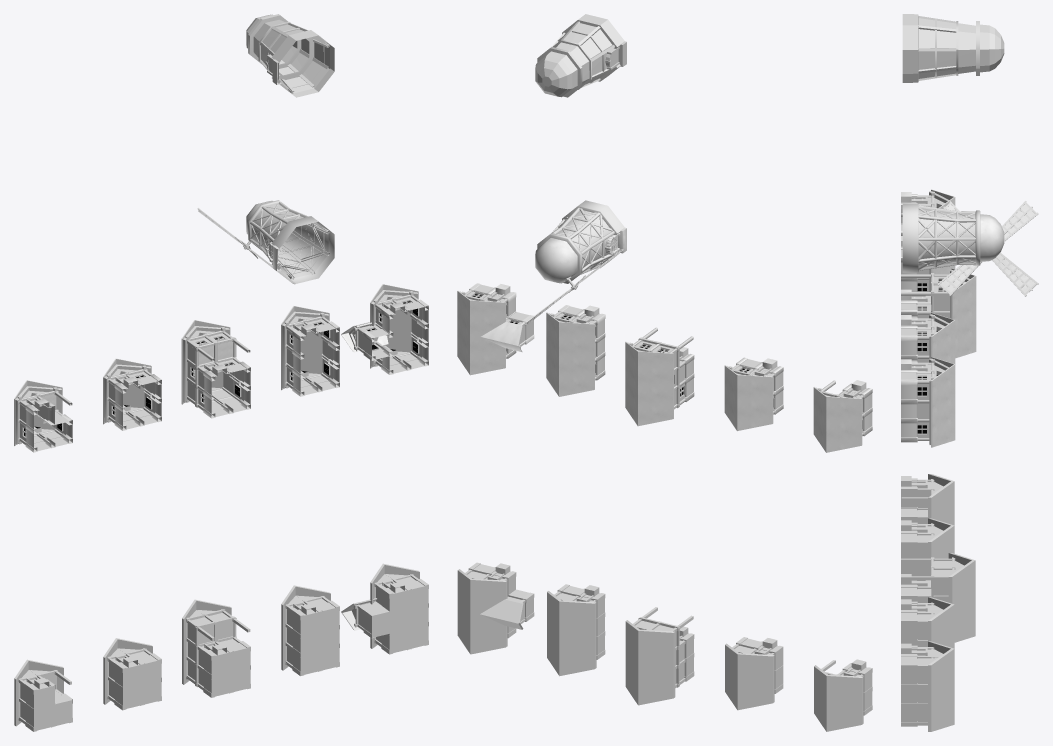
File: buildings.dae
3 views of the same model, side by side, from view 1: azimuth 30°, elevation 25°; view 2: azimuth 150°, elevation 25°; view 3: azimuth 270°, elevation 25° (orthographic).
Parts seen in each view (by area): view 1: LOD:0_house_3, PHYSICS_house_3, PHYSICS_house_5, LOD:0_house_5, LOD:0_windmill, PHYSICS_windmill, PHYSICS_house_4, LOD:0_house_4, LOD:0_house_2, PHYSICS_house_2, PHYSICS_house_1, LOD:0_house_1; view 2: PHYSICS_house_5, LOD:0_house_5, PHYSICS_house_3, LOD:0_house_3, LOD:0_windmill, PHYSICS_windmill, LOD:0_house_4, PHYSICS_house_4, LOD:0_house_2, PHYSICS_house_2, LOD:0_house_1, PHYSICS_house_1; view 3: LOD:0_windmill, PHYSICS_windmill, LOD:0_house_5, PHYSICS_house_5, PHYSICS_house_3, LOD:0_house_3, LOD:0_house_4, PHYSICS_house_1, PHYSICS_house_4, PHYSICS_house_2, windmill_blades, LOD:0_house_2 (+1 smaller).
Part boxes in pixels (x1,y1,x2,y2): LOD:0_house_3: (181, 320, 250, 418); PHYSICS_house_3: (182, 599, 250, 697); PHYSICS_house_5: (341, 563, 428, 654); LOD:0_house_5: (341, 284, 428, 374); LOD:0_windmill: (246, 200, 334, 283); PHYSICS_windmill: (246, 14, 334, 97); PHYSICS_house_4: (281, 585, 339, 676); LOD:0_house_4: (281, 306, 339, 396); LOD:0_house_2: (103, 358, 161, 430); PHYSICS_house_2: (103, 638, 161, 710); PHYSICS_house_1: (14, 659, 72, 731); LOD:0_house_1: (14, 380, 72, 452); PHYSICS_house_5: (457, 562, 534, 654); LOD:0_house_5: (457, 283, 534, 375); PHYSICS_house_3: (625, 607, 694, 705); LOD:0_house_3: (625, 327, 694, 426); LOD:0_windmill: (535, 200, 626, 283); PHYSICS_windmill: (535, 14, 626, 97); LOD:0_house_4: (546, 305, 605, 396); PHYSICS_house_4: (547, 584, 605, 676); LOD:0_house_2: (724, 357, 783, 430); PHYSICS_house_2: (725, 637, 783, 710); LOD:0_house_1: (813, 380, 872, 452); PHYSICS_house_1: (814, 659, 872, 731); LOD:0_windmill: (902, 203, 1004, 272); PHYSICS_windmill: (902, 14, 1004, 82); LOD:0_house_5: (901, 357, 955, 447); PHYSICS_house_5: (901, 641, 954, 731); PHYSICS_house_3: (901, 553, 975, 642); LOD:0_house_3: (901, 268, 976, 358); LOD:0_house_4: (901, 313, 955, 363); PHYSICS_house_1: (901, 474, 954, 525); PHYSICS_house_4: (901, 597, 954, 648); PHYSICS_house_2: (901, 518, 954, 576); windmill_blades: (937, 201, 1038, 296); LOD:0_house_2: (901, 236, 955, 291).
Size of the model in its own units: 68.09 by 19.74 by 104.
